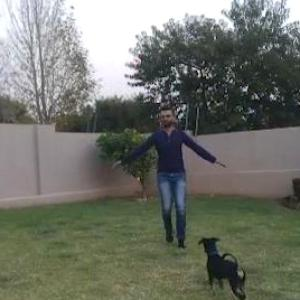land: (93, 103, 232, 271)
